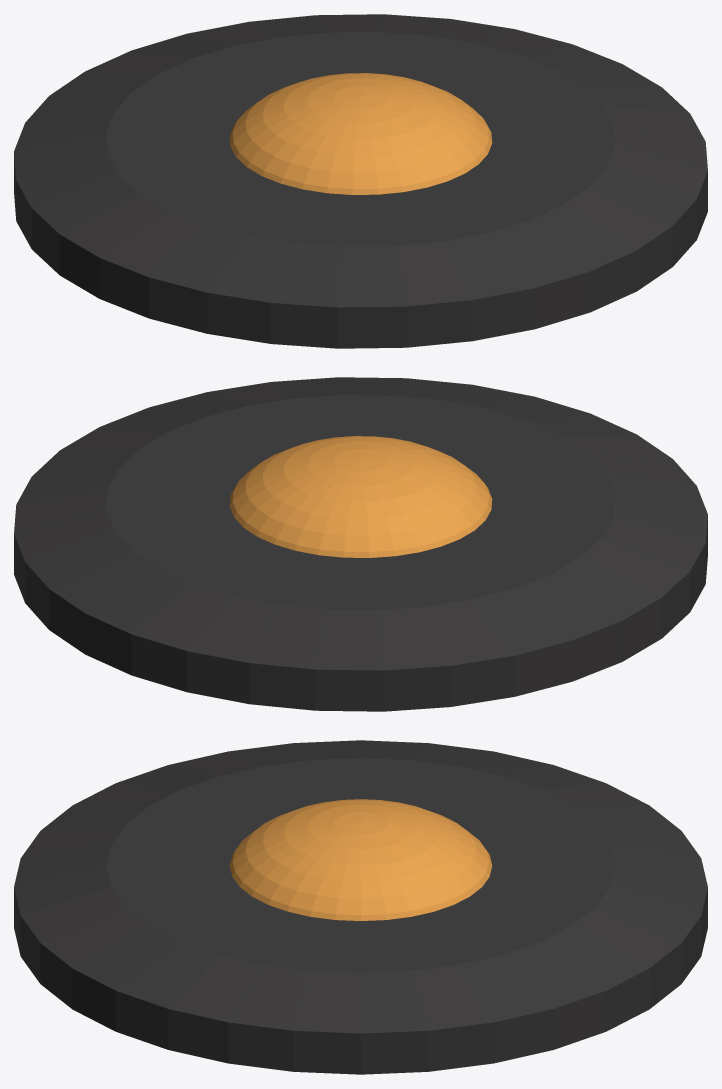
Rendered from UFO.fbx.
The picture shows the model from 3 angles, top to bottom: view 1: azimuth 30°, elevation 25°; view 2: azimuth 150°, elevation 25°; view 3: azimuth 270°, elevation 25°; orthographic projection.
Visible parts, largest first — view 1: UFO; view 2: UFO; view 3: UFO.
Part boxes in pixels (x1=…): UFO: x1=14, y1=14, x2=707, y2=348; UFO: x1=14, y1=377, x2=707, y2=711; UFO: x1=14, y1=740, x2=707, y2=1074.
Size of the model in its own units: 200 by 49.59 by 200.
